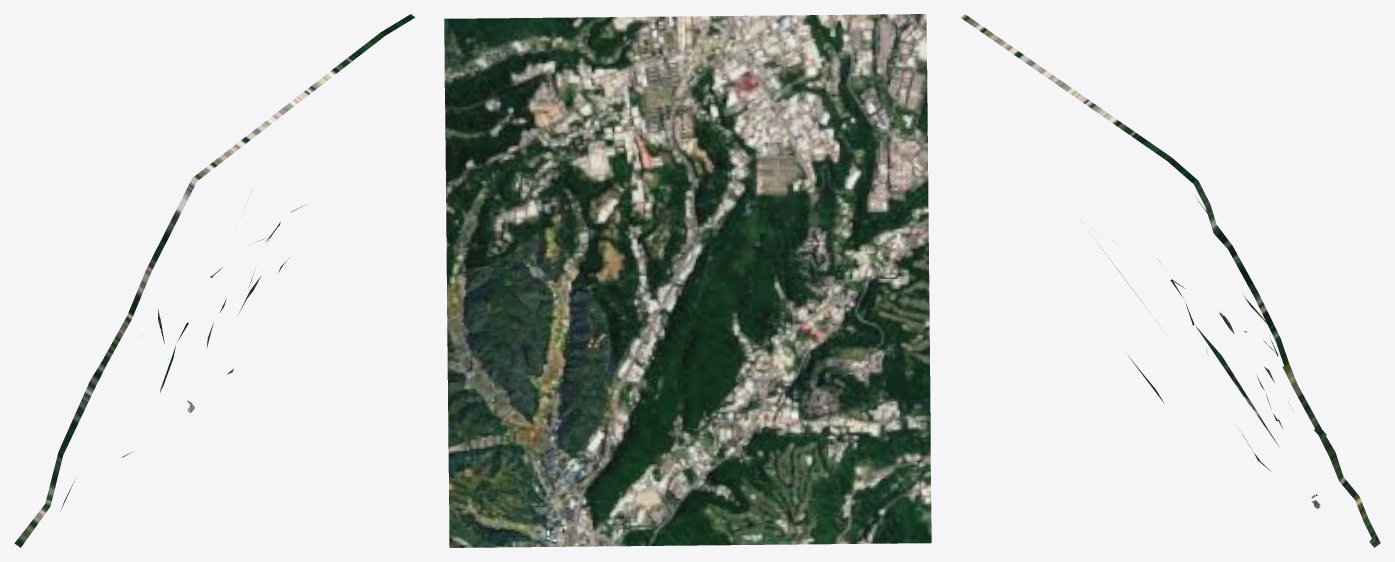
3 renders of one model, left to right at view 1: azimuth 30°, elevation 25°; view 2: azimuth 150°, elevation 25°; view 3: azimuth 270°, elevation 25°, orthographic. The views are drawn at different scales.
Bounding box in the file's own units: 4888 × 4494 × 4105.
1 material, 1 textured.
